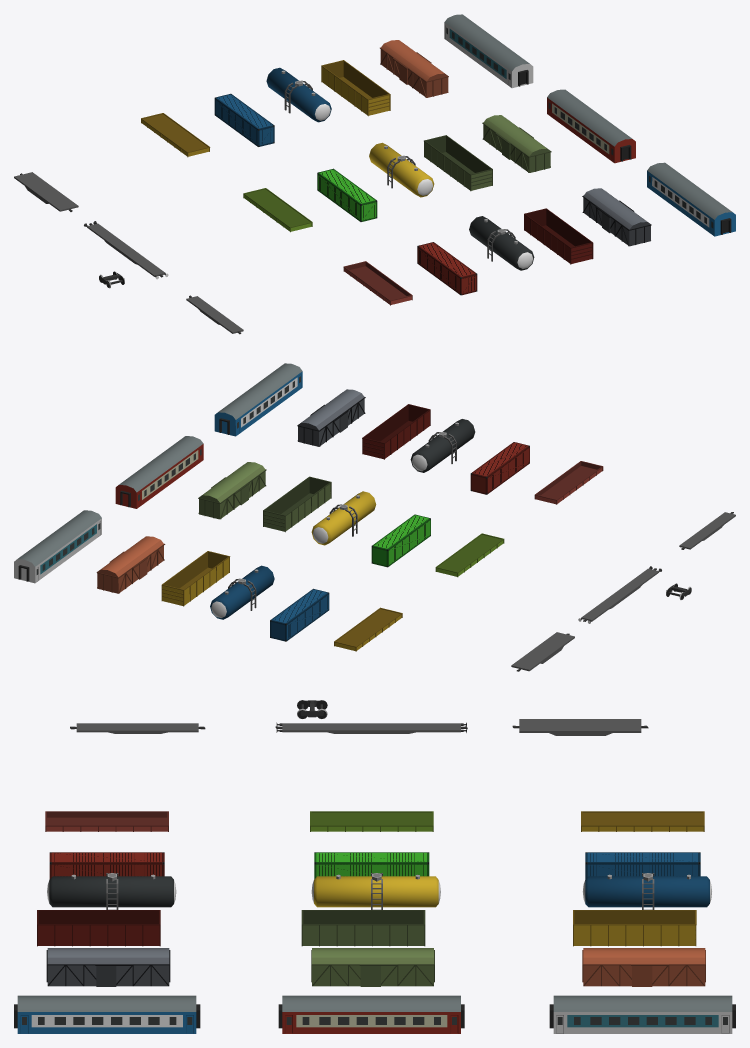
Rendered from cars.FBX.
3 renders of one model, top to bottom at view 1: azimuth 30°, elevation 25°; view 2: azimuth 150°, elevation 25°; view 3: azimuth 270°, elevation 25°, orthographic. The views are drawn at different scales.
Visible parts, largest first — view 1: passcar_hull_white, passcar_hull_red, passcar_hull_blue, boxcar_hull_red, boxcar_hull_grey, boxcar_hull_green, open_hull_red, open_hull_yellow, open_hull_green, container_red, container_green, container_blue (+9 smaller); view 2: passcar_hull_blue, passcar_hull_red, passcar_hull_white, boxcar_hull_red, boxcar_hull_green, boxcar_hull_grey, open_hull_red, open_hull_green, open_hull_yellow, container_green, container_blue, container_red (+9 smaller); view 3: passcar_hull_white, passcar_hull_blue, passcar_hull_red, boxcar_hull_grey, boxcar_hull_red, boxcar_hull_green, open_hull_green, open_hull_red, open_hull_yellow, tank_hull_grey, tank_hull_blue, tank_hull_yellow (+9 smaller).
Boxes of the visible parts, bbox=[...] form: passcar_hull_white: bbox=[444, 14, 533, 88]; passcar_hull_red: bbox=[547, 89, 635, 163]; passcar_hull_blue: bbox=[647, 162, 735, 236]; boxcar_hull_red: bbox=[380, 40, 448, 97]; boxcar_hull_grey: bbox=[582, 188, 651, 246]; boxcar_hull_green: bbox=[482, 115, 551, 172]; open_hull_red: bbox=[524, 208, 593, 264]; open_hull_yellow: bbox=[321, 60, 390, 116]; open_hull_green: bbox=[424, 135, 492, 191]; container_red: bbox=[417, 242, 477, 295]; container_green: bbox=[317, 168, 377, 221]; container_blue: bbox=[214, 93, 274, 146]; passcar_hull_blue: bbox=[214, 363, 302, 436]; passcar_hull_red: bbox=[115, 436, 203, 508]; passcar_hull_white: bbox=[14, 510, 101, 583]; boxcar_hull_red: bbox=[96, 536, 165, 593]; boxcar_hull_green: bbox=[198, 462, 266, 519]; boxcar_hull_grey: bbox=[297, 389, 365, 446]; open_hull_red: bbox=[362, 404, 430, 459]; open_hull_green: bbox=[263, 476, 331, 532]; open_hull_yellow: bbox=[161, 551, 230, 606]; container_green: bbox=[371, 514, 430, 567]; container_blue: bbox=[270, 588, 329, 641]; container_red: bbox=[470, 442, 529, 494]; passcar_hull_white: bbox=[549, 995, 735, 1033]; passcar_hull_blue: bbox=[14, 995, 200, 1033]; passcar_hull_red: bbox=[278, 995, 464, 1033]; boxcar_hull_grey: bbox=[46, 948, 170, 986]; boxcar_hull_red: bbox=[582, 948, 705, 986]; boxcar_hull_green: bbox=[311, 948, 434, 986]; open_hull_green: bbox=[301, 910, 425, 946]; open_hull_red: bbox=[37, 910, 160, 946]; open_hull_yellow: bbox=[573, 910, 696, 946]; tank_hull_grey: bbox=[47, 873, 176, 909]; tank_hull_blue: bbox=[582, 873, 711, 909]; tank_hull_yellow: bbox=[311, 873, 440, 909].
Size of the model in its own units: 82.96 by 75.26 by 4.84.
1 material, 1 textured.
